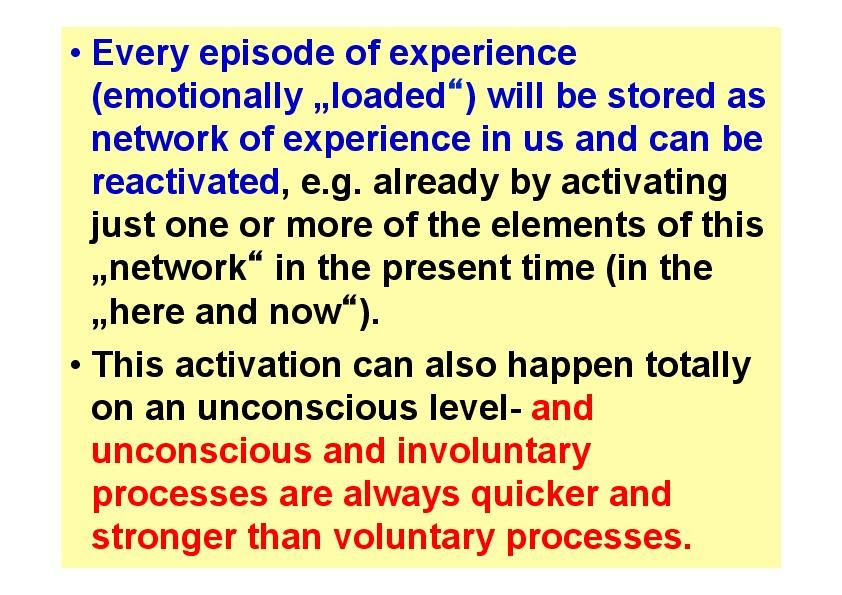paragraph: (67, 28, 791, 575)
